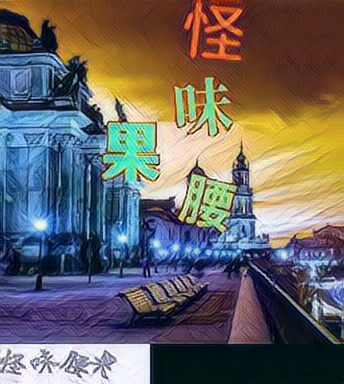B9D6: (182, 2, 244, 66)
B9FB: (97, 120, 159, 184)
CEB6: (172, 74, 234, 138)
D1FC: (179, 170, 241, 234)
